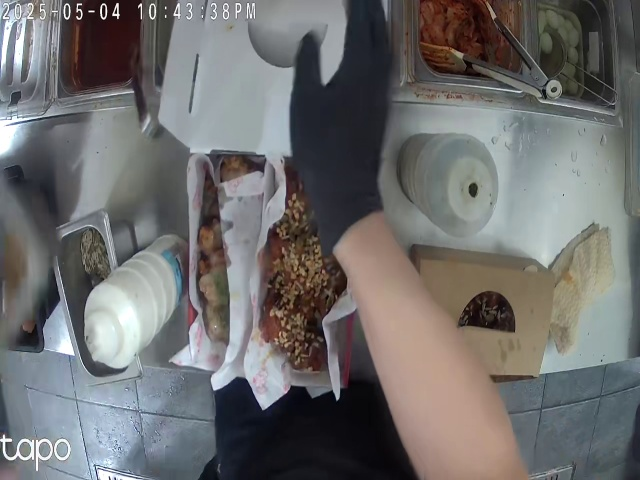closed delivery box: (413, 249, 544, 377)
delivery box: (174, 10, 356, 385)
food: (263, 189, 337, 357), (196, 163, 243, 346)
hand: (308, 0, 387, 225)
